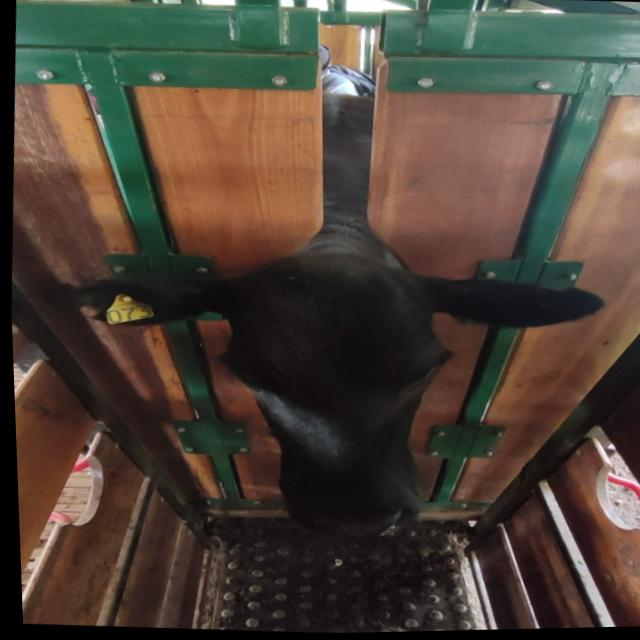cowFace: (206, 247, 458, 549)
